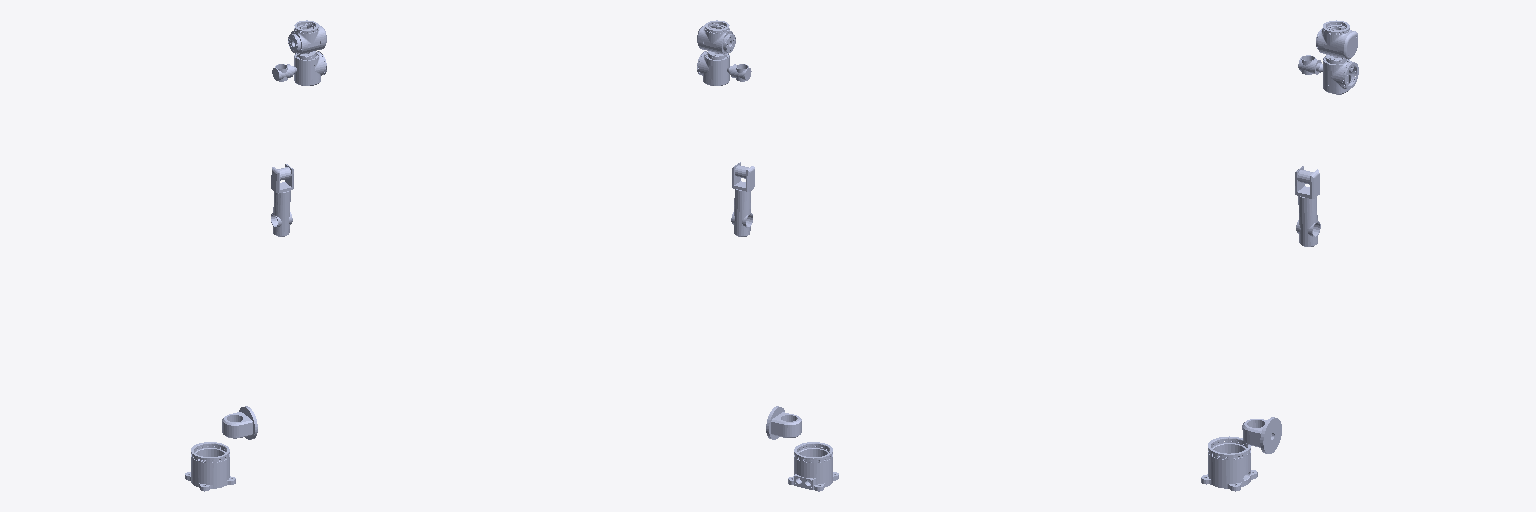
URDF robot description (cobot30_5):
<?xml version="1.0" encoding="utf-8"?>
<!-- This URDF was automatically created by SolidWorks to URDF Exporter! Originally created by Stephen Brawner ([email redacted]) 
     Commit Version: 1.6.0-4-g7f85cfe  Build Version: 1.6.7995.38578
     For more information, please see http://wiki.ros.org/sw_urdf_exporter -->
<robot
  name="cobot30_5">
  <link
    name="base_link">
    <inertial>
      <origin
        xyz="-0.000989056198588842 -5.07148438501949E-05 0.0430543567069582"
        rpy="0 0 0" />
      <mass
        value="0.502562281485237" />
      <inertia
        ixx="0.00105781384901632"
        ixy="2.50133713898659E-08"
        ixz="-1.00003723448872E-05"
        iyy="0.00103104252214328"
        iyz="4.5279766543984E-07"
        izz="0.00133072867817449" />
    </inertial>
    <visual>
      <origin
        xyz="0 0 0"
        rpy="0 0 0" />
      <geometry>
        <mesh
          filename="package://cobot30_5/meshes/base_link.STL" />
      </geometry>
      <material
        name="">
        <color
          rgba="0.792156862745098 0.819607843137255 0.933333333333333 1" />
      </material>
    </visual>
    <collision>
      <origin
        xyz="0 0 0"
        rpy="0 0 0" />
      <geometry>
        <mesh
          filename="package://cobot30_5/meshes/base_link.STL" />
      </geometry>
    </collision>
  </link>
  <link
    name="link_1">
    <inertial>
      <origin
        xyz="0.00568622330320681 -8.20843742846758E-06 -0.0114699821762951"
        rpy="0 0 0" />
      <mass
        value="1.10620449946111" />
      <inertia
        ixx="0.00220293087073834"
        ixy="-7.40082411829979E-07"
        ixz="-8.33858647007746E-05"
        iyy="0.00231081760298515"
        iyz="3.06494014774345E-07"
        izz="0.00208648388312482" />
    </inertial>
    <visual>
      <origin
        xyz="0 0 0"
        rpy="0 0 0" />
      <geometry>
        <mesh
          filename="package://cobot30_5/meshes/link_1.STL" />
      </geometry>
      <material
        name="">
        <color
          rgba="0.792156862745098 0.819607843137255 0.933333333333333 1" />
      </material>
    </visual>
    <collision>
      <origin
        xyz="0 0 0"
        rpy="0 0 0" />
      <geometry>
        <mesh
          filename="package://cobot30_5/meshes/link_1.STL" />
      </geometry>
    </collision>
  </link>
  <joint
    name="joint_1"
    type="revolute">
    <origin
      xyz="0 0 0.159"
      rpy="0 0 0" />
    <parent
      link="base_link" />
    <child
      link="link_1" />
    <axis
      xyz="0 0 1" />
    <limit
      lower="0"
      upper="0"
      effort="0"
      velocity="0" />
  </joint>
  <link
    name="link_2">
    <inertial>
      <origin
        xyz="0.00568634602663737 -8.14228149395926E-06 -0.0114700046641839"
        rpy="0 0 0" />
      <mass
        value="1.10620510110998" />
      <inertia
        ixx="0.00220293512171474"
        ixy="-7.42606871243522E-07"
        ixz="-8.33802461764644E-05"
        iyy="0.00231081503344275"
        iyz="3.09526152628565E-07"
        izz="0.00208648359816799" />
    </inertial>
    <visual>
      <origin
        xyz="0 0 0"
        rpy="0 0 0" />
      <geometry>
        <mesh
          filename="package://cobot30_5/meshes/link_2.STL" />
      </geometry>
      <material
        name="">
        <color
          rgba="0.792156862745098 0.819607843137255 0.933333333333333 1" />
      </material>
    </visual>
    <collision>
      <origin
        xyz="0 0 0"
        rpy="0 0 0" />
      <geometry>
        <mesh
          filename="package://cobot30_5/meshes/link_2.STL" />
      </geometry>
    </collision>
  </link>
  <joint
    name="joint_2"
    type="revolute">
    <origin
      xyz="0.134 0 0"
      rpy="0 -1.5708 0" />
    <parent
      link="link_1" />
    <child
      link="link_2" />
    <axis
      xyz="0 0 1" />
    <limit
      lower="0"
      upper="0"
      effort="0"
      velocity="0" />
  </joint>
  <link
    name="link_3">
    <inertial>
      <origin
        xyz="0.00258807621496486 1.02786126445452E-05 -0.173183730073437"
        rpy="0 0 0" />
      <mass
        value="1.51230517582787" />
      <inertia
        ixx="0.0221850349990058"
        ixy="9.36987637762013E-07"
        ixz="-1.64527757366363E-05"
        iyy="0.0222365347782019"
        iyz="-8.55727002290495E-07"
        izz="0.00215451725641023" />
    </inertial>
    <visual>
      <origin
        xyz="0 0 0"
        rpy="0 0 0" />
      <geometry>
        <mesh
          filename="package://cobot30_5/meshes/link_3.STL" />
      </geometry>
      <material
        name="">
        <color
          rgba="0.792156862745098 0.819607843137255 0.933333333333333 1" />
      </material>
    </visual>
    <collision>
      <origin
        xyz="0 0 0"
        rpy="0 0 0" />
      <geometry>
        <mesh
          filename="package://cobot30_5/meshes/link_3.STL" />
      </geometry>
    </collision>
  </link>
  <joint
    name="joint_3"
    type="revolute">
    <origin
      xyz="0.641 0 0"
      rpy="0 1.5708 0" />
    <parent
      link="link_2" />
    <child
      link="link_3" />
    <axis
      xyz="0 0 1" />
    <limit
      lower="0"
      upper="0"
      effort="0"
      velocity="0" />
  </joint>
  <link
    name="link_4">
    <inertial>
      <origin
        xyz="0.005529275874395 3.20555322787242E-05 -0.00370947694571648"
        rpy="0 0 0" />
      <mass
        value="0.708398068835544" />
      <inertia
        ixx="0.000945138777625441"
        ixy="1.01472359055524E-06"
        ixz="-1.61315645739266E-05"
        iyy="0.000996794035275092"
        iyz="-8.02709883109126E-08"
        izz="0.000960636719763955" />
    </inertial>
    <visual>
      <origin
        xyz="0 0 0"
        rpy="0 0 0" />
      <geometry>
        <mesh
          filename="package://cobot30_5/meshes/link_4.STL" />
      </geometry>
      <material
        name="">
        <color
          rgba="0.792156862745098 0.819607843137255 0.933333333333333 1" />
      </material>
    </visual>
    <collision>
      <origin
        xyz="0 0 0"
        rpy="0 0 0" />
      <geometry>
        <mesh
          filename="package://cobot30_5/meshes/link_4.STL" />
      </geometry>
    </collision>
  </link>
  <joint
    name="joint_4"
    type="revolute">
    <origin
      xyz="0.11 0 0"
      rpy="0 -1.5708 0" />
    <parent
      link="link_3" />
    <child
      link="link_4" />
    <axis
      xyz="0 0 1" />
    <limit
      lower="0"
      upper="0"
      effort="0"
      velocity="0" />
  </joint>
  <link
    name="link_5">
    <inertial>
      <origin
        xyz="0.00104204965739937 2.81623847716919E-05 -0.15857751618617"
        rpy="0 0 0" />
      <mass
        value="0.894463793951485" />
      <inertia
        ixx="0.00851393427041097"
        ixy="7.9164021731506E-07"
        ixz="-3.92803723723753E-06"
        iyy="0.00853023078560266"
        iyz="-6.3099432504144E-08"
        izz="0.000741325682294929" />
    </inertial>
    <visual>
      <origin
        xyz="0 0 0"
        rpy="0 0 0" />
      <geometry>
        <mesh
          filename="package://cobot30_5/meshes/link_5.STL" />
      </geometry>
      <material
        name="">
        <color
          rgba="0.792156862745098 0.819607843137255 0.933333333333333 1" />
      </material>
    </visual>
    <collision>
      <origin
        xyz="0 0 0"
        rpy="0 0 0" />
      <geometry>
        <mesh
          filename="package://cobot30_5/meshes/link_5.STL" />
      </geometry>
    </collision>
  </link>
  <joint
    name="joint_5"
    type="revolute">
    <origin
      xyz="0.478 0 0"
      rpy="0 1.5708 0" />
    <parent
      link="link_4" />
    <child
      link="link_5" />
    <axis
      xyz="0 0 1" />
    <limit
      lower="0"
      upper="0"
      effort="0"
      velocity="0" />
  </joint>
  <link
    name="link_6">
    <inertial>
      <origin
        xyz="0.00290799885931436 7.79152273618633E-05 -0.00368819421517057"
        rpy="0 0 0" />
      <mass
        value="0.323306324607367" />
      <inertia
        ixx="0.000268136508211964"
        ixy="7.91629170963345E-07"
        ixz="-2.90444946780203E-06"
        iyy="0.000284214294696326"
        iyz="-6.30622047056855E-08"
        izz="0.0002683399895199" />
    </inertial>
    <visual>
      <origin
        xyz="0 0 0"
        rpy="0 0 0" />
      <geometry>
        <mesh
          filename="package://cobot30_5/meshes/link_6.STL" />
      </geometry>
      <material
        name="">
        <color
          rgba="0.792156862745098 0.819607843137255 0.933333333333333 1" />
      </material>
    </visual>
    <collision>
      <origin
        xyz="0 0 0"
        rpy="0 0 0" />
      <geometry>
        <mesh
          filename="package://cobot30_5/meshes/link_6.STL" />
      </geometry>
    </collision>
  </link>
  <joint
    name="joint_6"
    type="revolute">
    <origin
      xyz="0.086 0 0"
      rpy="0 -1.5708 0" />
    <parent
      link="link_5" />
    <child
      link="link_6" />
    <axis
      xyz="0 0 1" />
    <limit
      lower="0"
      upper="0"
      effort="0"
      velocity="0" />
  </joint>
  <link
    name="link_6_2">
    <inertial>
      <origin
        xyz="0.00290799920267108 7.79156612489354E-05 -0.00368819425960698"
        rpy="0 0 0" />
      <mass
        value="0.323306321695791" />
      <inertia
        ixx="0.000268136506586479"
        ixy="7.9163014735652E-07"
        ixz="-2.90444900052873E-06"
        iyy="0.000284214294569273"
        iyz="-6.3060438812504E-08"
        izz="0.000268339986427764" />
    </inertial>
    <visual>
      <origin
        xyz="0 0 0"
        rpy="0 0 0" />
      <geometry>
        <mesh
          filename="package://cobot30_5/meshes/link_6_2.STL" />
      </geometry>
      <material
        name="">
        <color
          rgba="0.792156862745098 0.819607843137255 0.933333333333333 1" />
      </material>
    </visual>
    <collision>
      <origin
        xyz="0 0 0"
        rpy="0 0 0" />
      <geometry>
        <mesh
          filename="package://cobot30_5/meshes/link_6_2.STL" />
      </geometry>
    </collision>
  </link>
  <joint
    name="joint_6_2_fix"
    type="fixed">
    <origin
      xyz="0.0860000000000007 0 0"
      rpy="0 -1.5707963267949 0" />
    <parent
      link="link_6" />
    <child
      link="link_6_2" />
    <axis
      xyz="0 0 0" />
  </joint>
  <link
    name="link_7">
    <inertial>
      <origin
        xyz="0.000195407913214707 -2.75686119528204E-05 -0.0151453522300611"
        rpy="0 0 0" />
      <mass
        value="0.0841557704076625" />
      <inertia
        ixx="3.98481977075064E-05"
        ixy="-1.26349081100116E-07"
        ixz="-1.65032837582159E-08"
        iyy="3.89701670094055E-05"
        iyz="2.32099904153232E-09"
        izz="6.57320956326678E-05" />
    </inertial>
    <visual>
      <origin
        xyz="0 0 0"
        rpy="0 0 0" />
      <geometry>
        <mesh
          filename="package://cobot30_5/meshes/link_7.STL" />
      </geometry>
      <material
        name="">
        <color
          rgba="0.792156862745098 0.819607843137255 0.933333333333333 1" />
      </material>
    </visual>
    <collision>
      <origin
        xyz="0 0 0"
        rpy="0 0 0" />
      <geometry>
        <mesh
          filename="package://cobot30_5/meshes/link_7.STL" />
      </geometry>
    </collision>
  </link>
  <joint
    name="joint_7"
    type="revolute">
    <origin
      xyz="0.0725 0 0"
      rpy="0 -1.5708 0" />
    <parent
      link="link_6_2" />
    <child
      link="link_7" />
    <axis
      xyz="0 0 1" />
    <limit
      lower="0"
      upper="0"
      effort="0"
      velocity="0" />
  </joint>
</robot>

--- Facts derived from the render (not from the file) ---
The picture shows the robot from 3 angles, left to right: view 1: azimuth 30°, elevation 25°; view 2: azimuth 150°, elevation 25°; view 3: azimuth 330°, elevation 25°; orthographic projection.
Model cobot30_5 with 9 links and 8 joints (7 revolute, 1 fixed), rooted at base_link, posed all joints at 0.
Links seen in each view (by area): view 1: base_link, link_4, link_6_2, link_6, link_2; view 2: base_link, link_4, link_6_2, link_6, link_2; view 3: base_link, link_4, link_6_2, link_6, link_2.
Link boxes in pixels (x1=…): base_link: x1=185, y1=442, x2=235, y2=491; link_4: x1=271, y1=164, x2=293, y2=236; link_6_2: x1=288, y1=20, x2=326, y2=54; link_6: x1=294, y1=51, x2=326, y2=85; link_2: x1=222, y1=406, x2=257, y2=439; base_link: x1=788, y1=442, x2=838, y2=491; link_4: x1=731, y1=162, x2=754, y2=236; link_6_2: x1=697, y1=20, x2=735, y2=54; link_6: x1=697, y1=51, x2=729, y2=85; link_2: x1=766, y1=406, x2=801, y2=439; base_link: x1=1201, y1=436, x2=1257, y2=491; link_4: x1=1295, y1=166, x2=1320, y2=246; link_6_2: x1=1316, y1=20, x2=1357, y2=59; link_6: x1=1323, y1=54, x2=1358, y2=94; link_2: x1=1242, y1=417, x2=1281, y2=453.
Bounding box of the posed robot: 0.4406 × 0.1192 × 1.41 m (x, y, z).
Meshes: 9 distinct files referenced, 6 mesh visuals loaded (6 binary STL); not drawn: 3 (reference not matched to a file when rendering).
